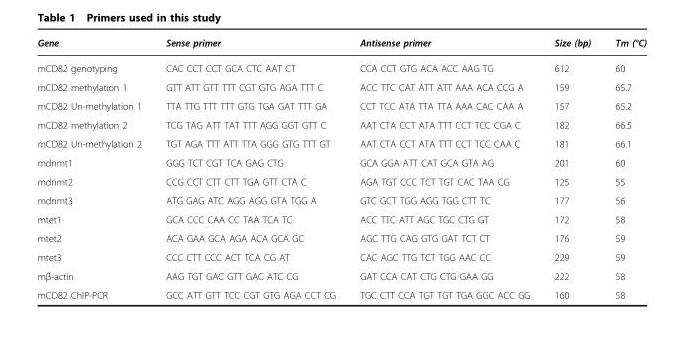table: (36, 36, 646, 300)
table column: (153, 36, 347, 300), (347, 36, 541, 300), (36, 36, 153, 300), (541, 36, 602, 300), (602, 36, 646, 300)
table column header: (36, 36, 646, 55)
table row: (36, 55, 646, 77), (36, 36, 646, 55), (36, 77, 646, 96), (36, 96, 646, 115), (36, 115, 646, 134), (36, 152, 646, 171), (36, 171, 646, 190), (36, 190, 646, 209), (36, 209, 646, 228), (36, 228, 646, 247), (36, 247, 646, 266), (36, 266, 646, 285), (36, 134, 646, 152), (36, 285, 646, 300)
